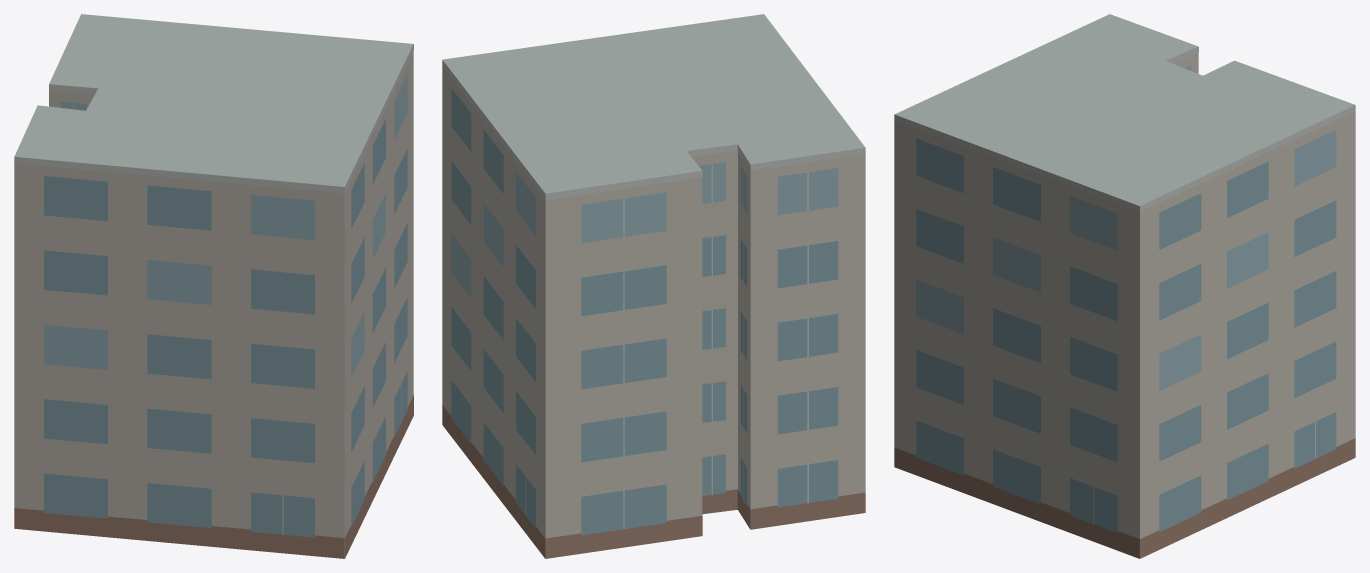
The model's file is survey-upis-32780892.glb.
3 renders of one model, left to right at view 1: azimuth 30°, elevation 25°; view 2: azimuth 150°, elevation 25°; view 3: azimuth 270°, elevation 25°, orthographic. The views are drawn at different scales.
Parts seen in each view (by area): view 1: survey-upis-32780892.tmp; view 2: survey-upis-32780892.tmp; view 3: survey-upis-32780892.tmp.
Boxes of the visible parts, box(x1,y1,x2,y2) form: survey-upis-32780892.tmp: box(14, 14, 413, 558); survey-upis-32780892.tmp: box(442, 14, 865, 558); survey-upis-32780892.tmp: box(894, 14, 1355, 558).
Size of the model in its own units: 16.31 by 13.95 by 16.54.
